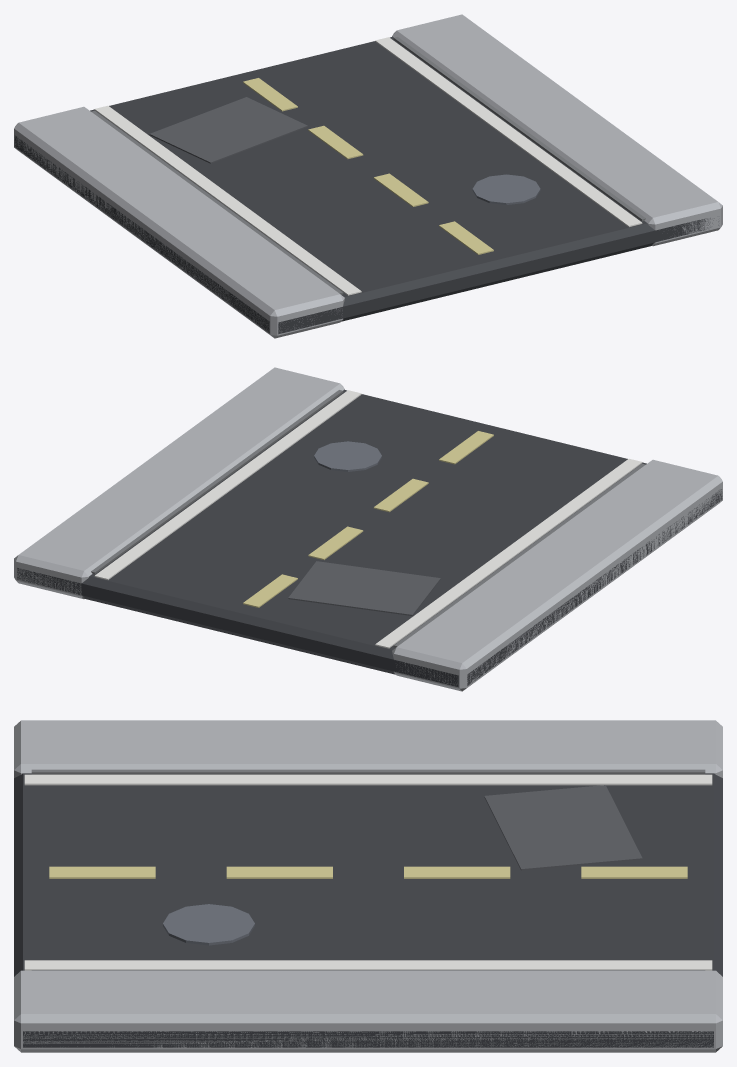
Rendered from tile_road_straight.glb.
3 views of the same model, one above another, from view 1: azimuth 30°, elevation 25°; view 2: azimuth 150°, elevation 25°; view 3: azimuth 270°, elevation 25° (orthographic). The views are drawn at different scales.
Parts seen in each view (by area): view 1: tile_road_straight; view 2: tile_road_straight; view 3: tile_road_straight.
Part boxes in pixels (box(x1,y1,x2,y2)): tile_road_straight: box(14, 14, 722, 338); tile_road_straight: box(14, 367, 722, 691); tile_road_straight: box(14, 720, 722, 1052).
Size of the model in its own units: 2 by 0.12 by 2.
